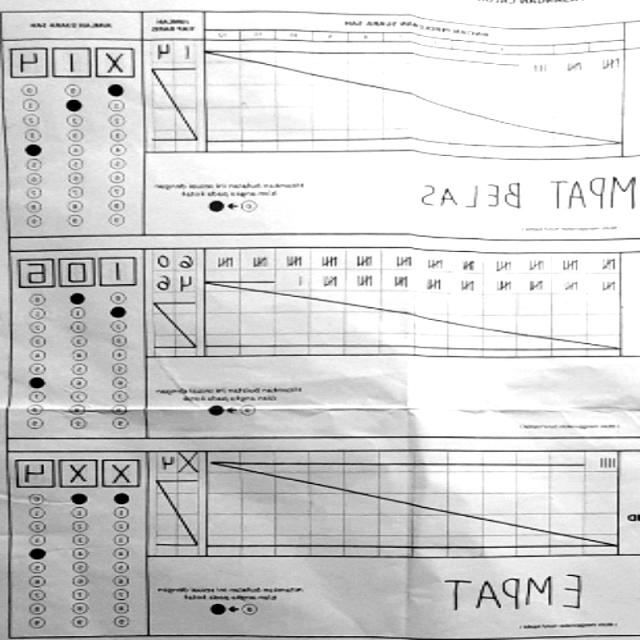Suara: (12, 453, 146, 494), (14, 249, 147, 290)
